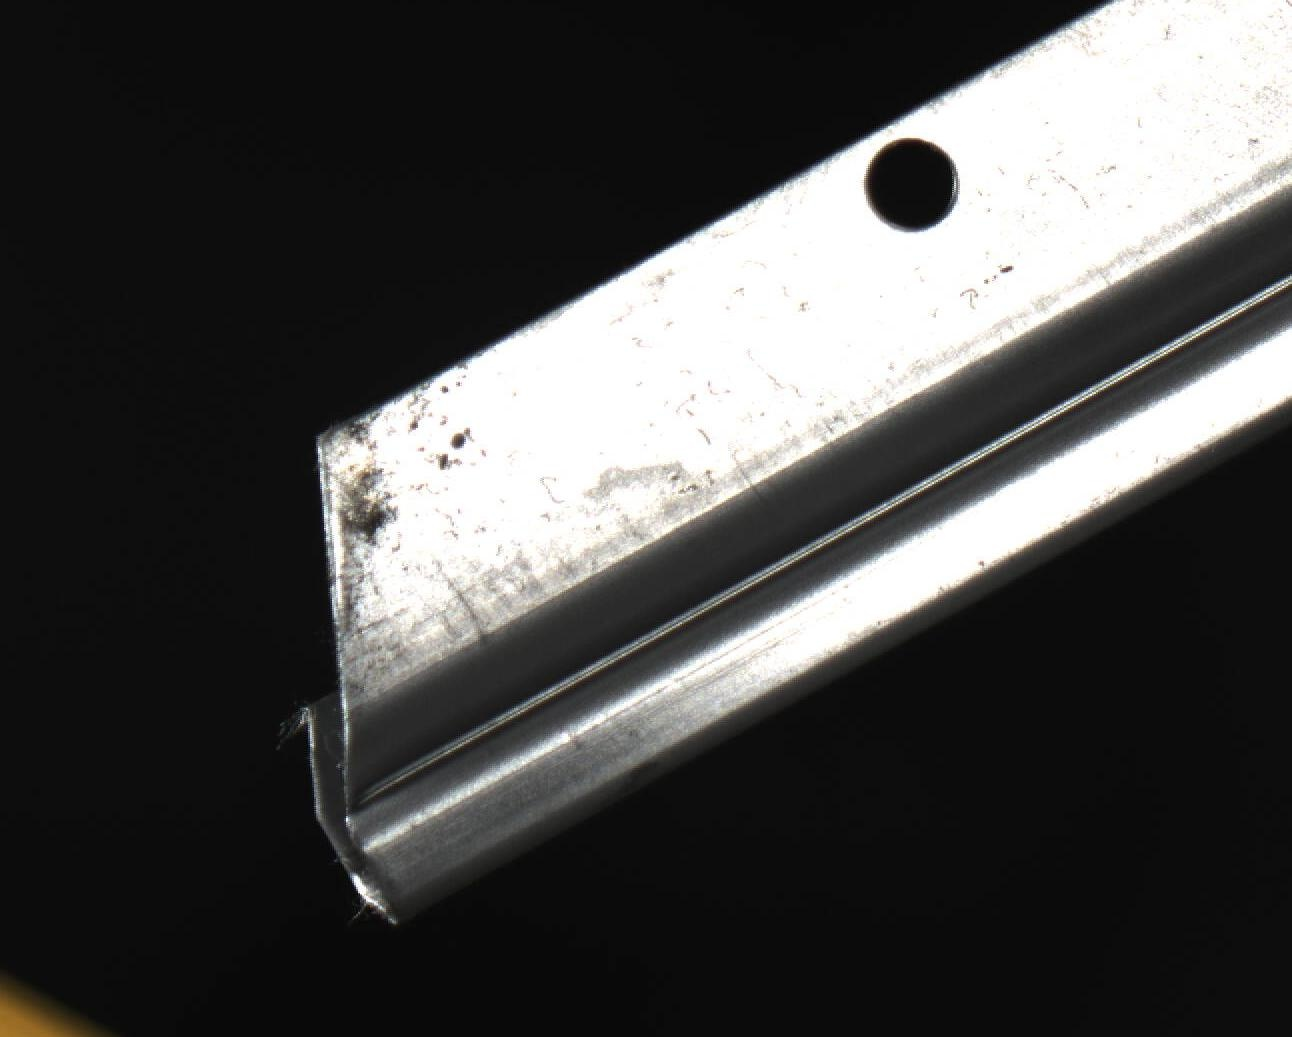cut: (232, 339, 689, 942)
holes: (865, 137, 964, 235)
